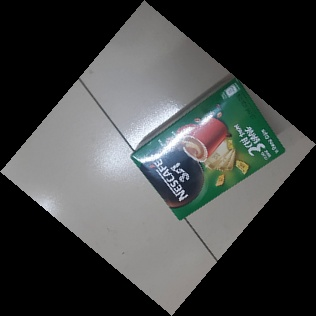Nes Rang: (127, 76, 289, 223)
